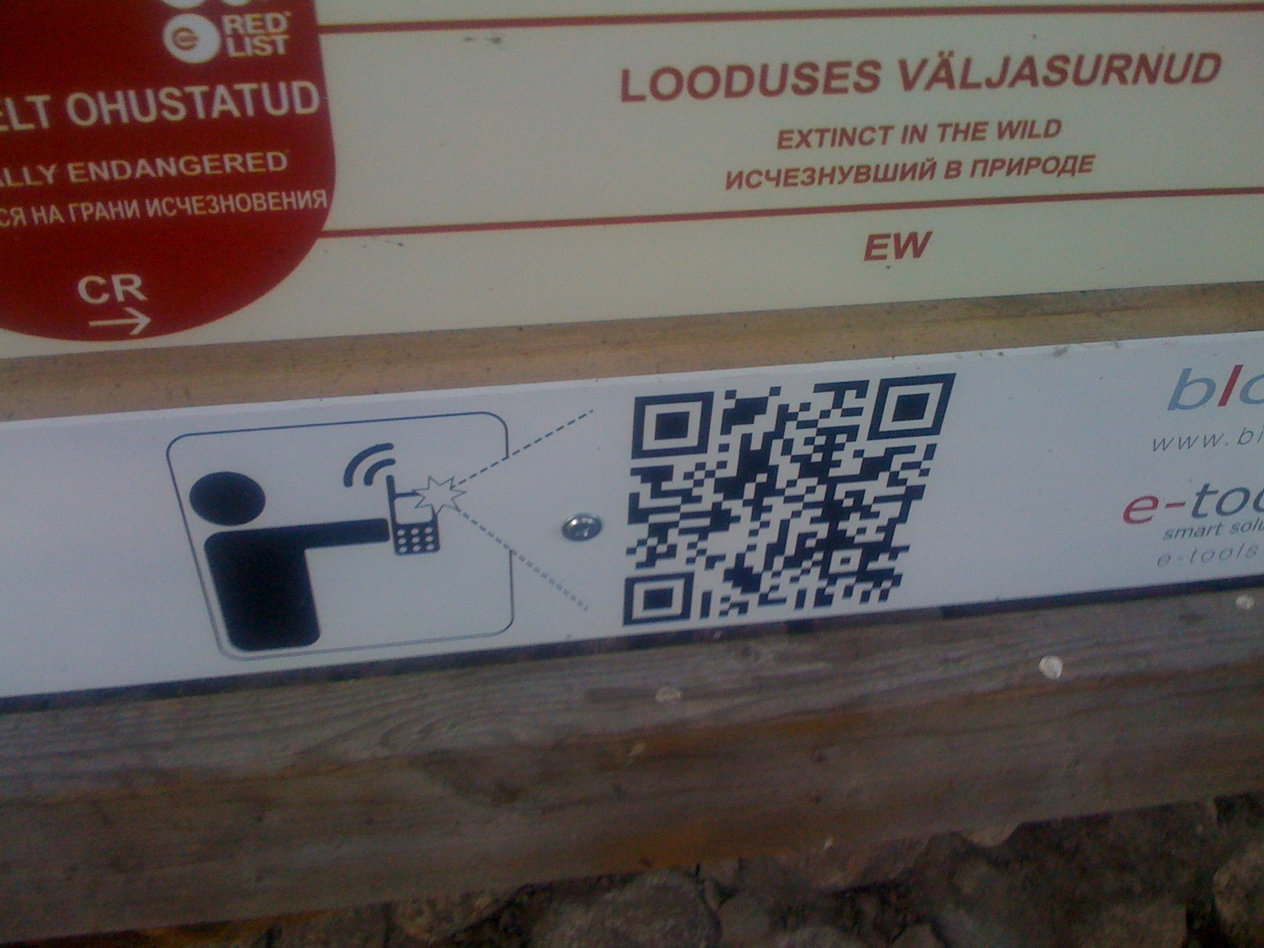QR-CODE: (622, 372, 956, 626)
